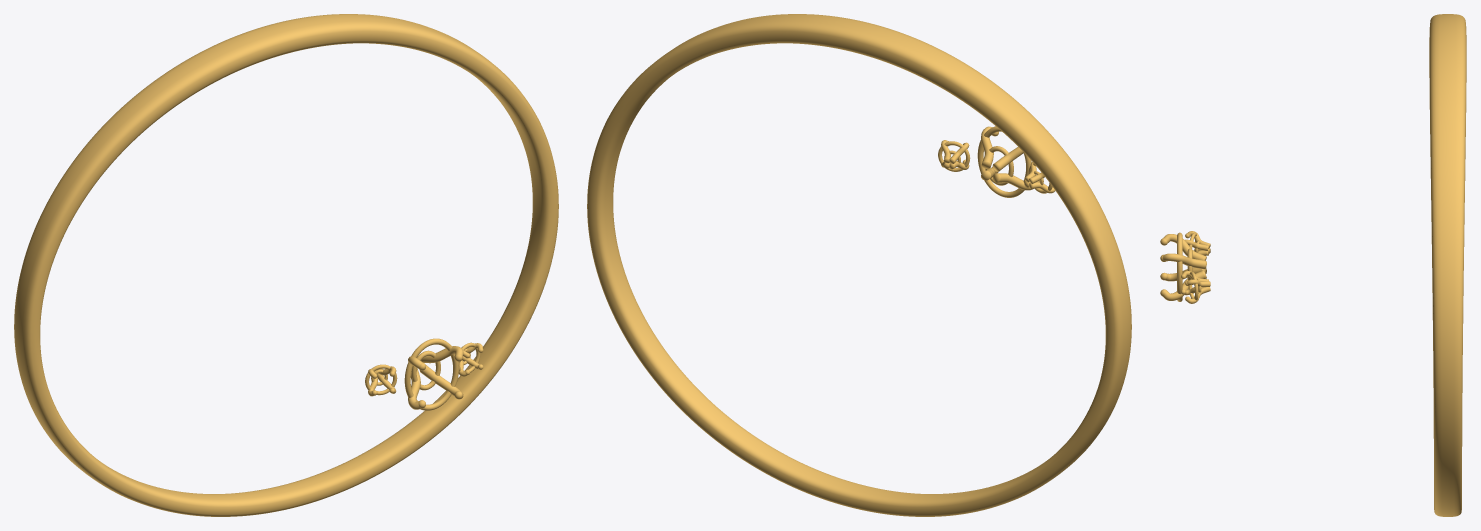
The model's file is Bracelet_Bangle.fbx.
3 views of the same model, side by side, from view 1: azimuth 30°, elevation 25°; view 2: azimuth 150°, elevation 25°; view 3: azimuth 270°, elevation 25° (orthographic). The views are drawn at different scales.
Parts seen in each view (by area): view 1: Band, Head_Center, Head_SideR; view 2: Band, Head_Center, Head_SideL; view 3: Band, Head_Center, Head_SideL, Head_SideR.
Part boxes in pixels (bbox=[...]): Band: bbox=[14, 14, 558, 516]; Head_Center: bbox=[404, 338, 463, 410]; Head_SideR: bbox=[365, 364, 397, 396]; Band: bbox=[587, 14, 1131, 516]; Head_Center: bbox=[977, 126, 1032, 197]; Head_SideL: bbox=[938, 140, 970, 171]; Band: bbox=[1429, 14, 1466, 516]; Head_Center: bbox=[1160, 232, 1206, 301]; Head_SideL: bbox=[1181, 271, 1210, 303]; Head_SideR: bbox=[1185, 231, 1210, 255].
Bounding box in the file's own units: 0.0661 × 0.0565 × 0.0355.
